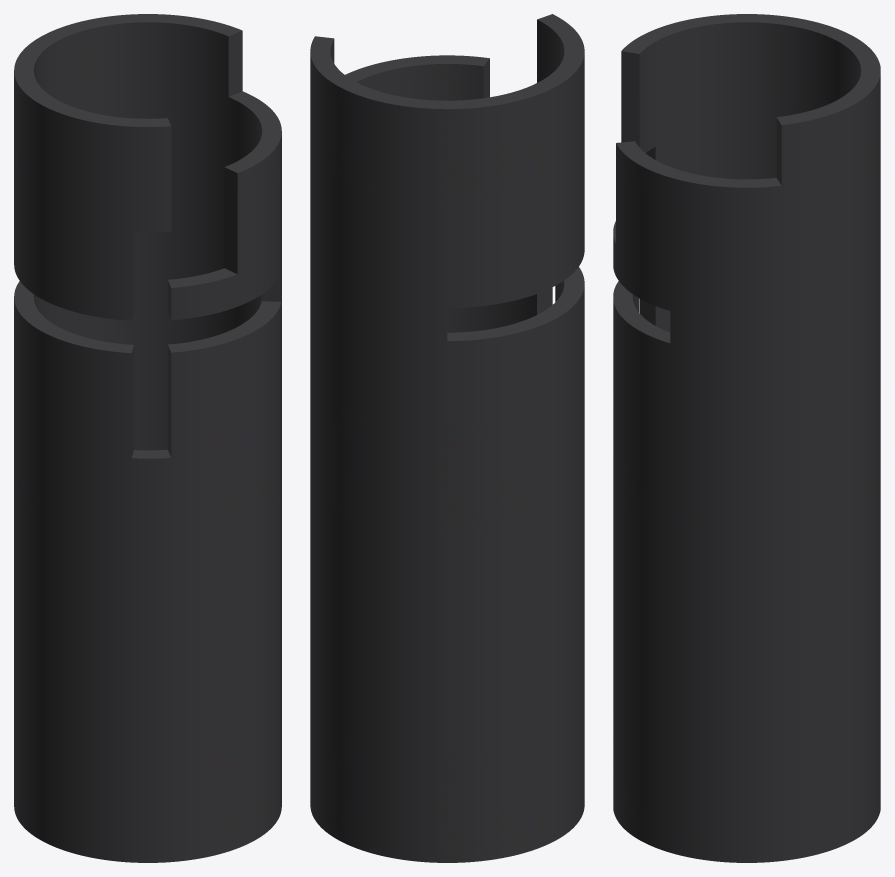
Rendered from 01_kral_cerna.glb.
3 renders of one model, left to right at view 1: azimuth 30°, elevation 25°; view 2: azimuth 150°, elevation 25°; view 3: azimuth 270°, elevation 25°, orthographic. The views are drawn at different scales.
Visible parts, largest first — view 1: 01_kral_cerna; view 2: 01_kral_cerna; view 3: 01_kral_cerna.
Boxes of the visible parts, box(x1,y1,x2,y2) form: 01_kral_cerna: box(14, 14, 281, 862); 01_kral_cerna: box(310, 14, 584, 862); 01_kral_cerna: box(613, 14, 880, 862).
Size of the model in its own units: 0.03 by 0.091 by 0.03.
1 material, 1 textured.
